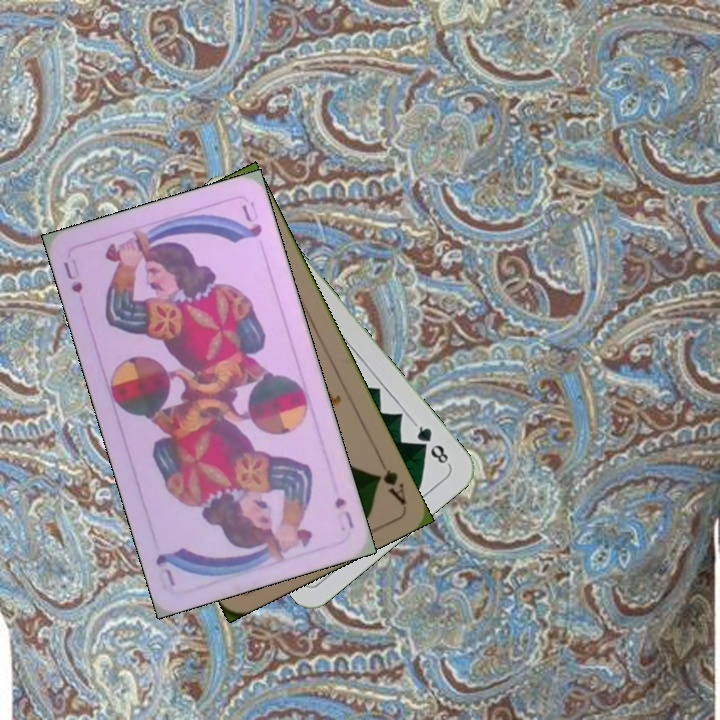G8: (409, 419, 452, 468)
GA: (371, 452, 409, 507)
SU: (59, 255, 86, 296), (330, 493, 357, 532)
